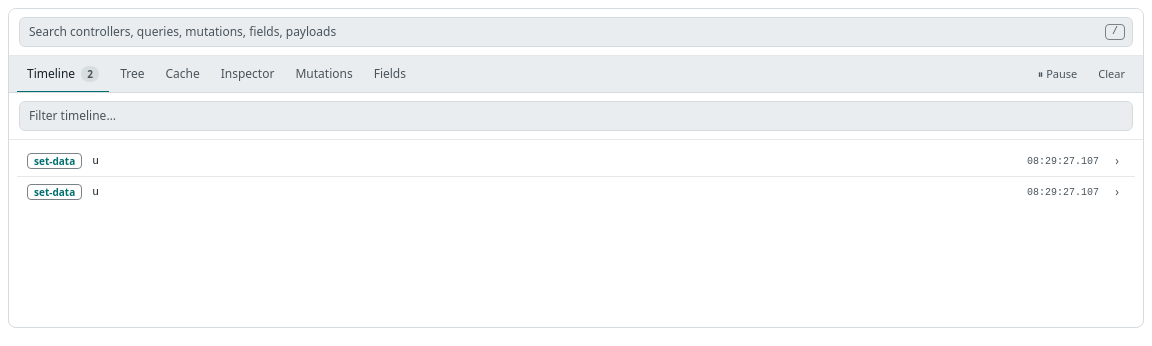
Test case: Timeline cache:set-data detail › an array diff renders in square brackets with only the changed index
What coordinates should you click on to do the following:
click the 1st element showing "set-data u 08:29:27.107 ›"
I would click on:
 (55, 161)
Its box is [27,152,1119,169].
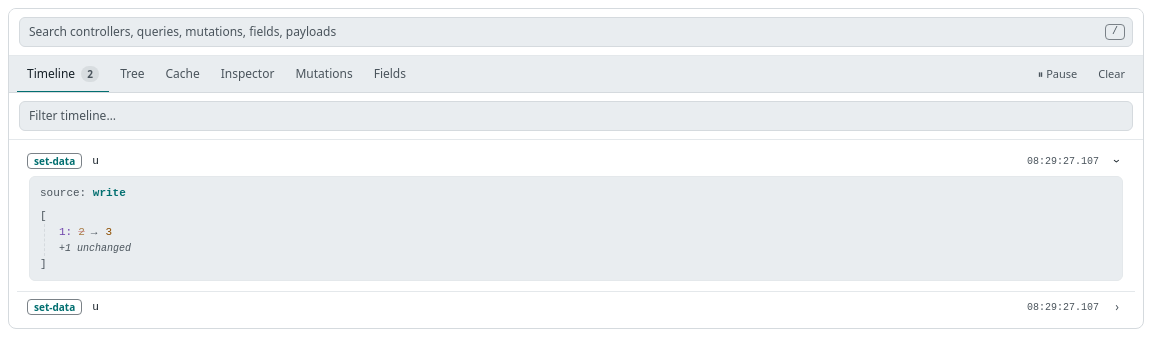
Expected: the text "[" is shown, [40,210,47,222]
Expected: the text "]" is shown, [40,258,47,270]
Expected: the element with class "olas-devtools-diff-row" reads "1: 2 → 3", [59,226,112,238]
